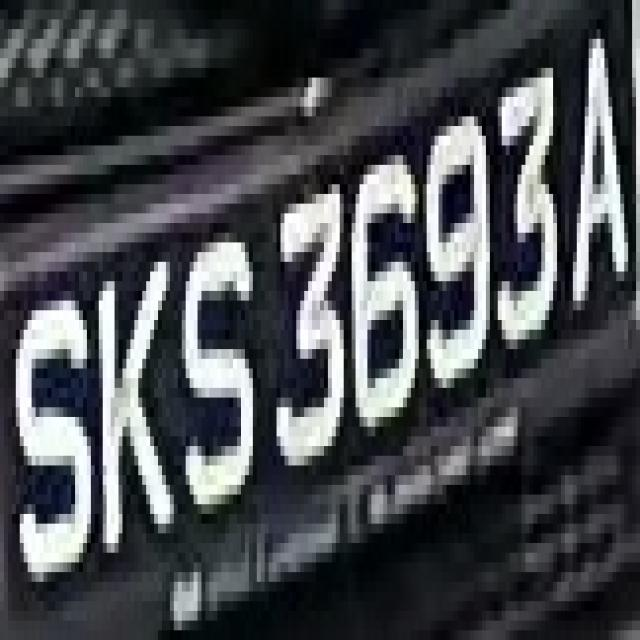3: (486, 49, 561, 398), (268, 165, 348, 465)
6: (352, 126, 422, 436)
9: (423, 87, 486, 427)
A: (561, 0, 640, 330)
K: (87, 243, 182, 592)
S: (174, 194, 261, 514), (16, 271, 91, 582)
